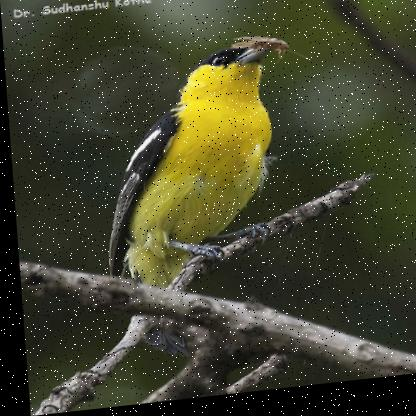Burung: (92, 48, 292, 366)
